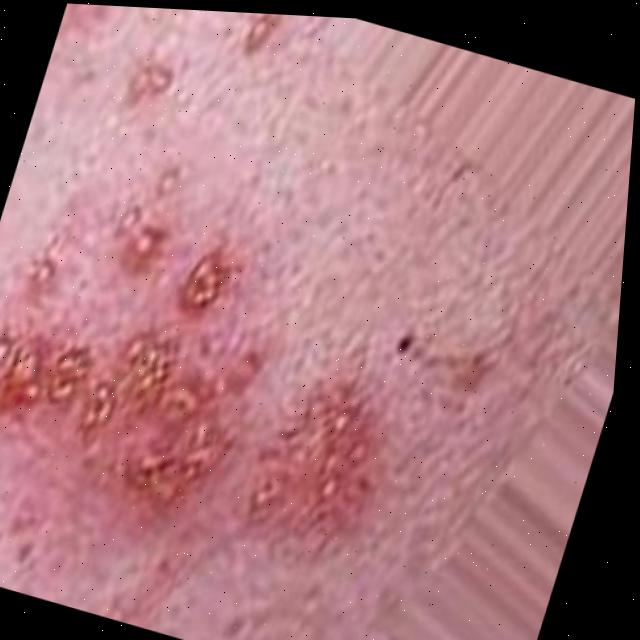Shingles: (0, 195, 292, 532), (239, 370, 414, 557)
